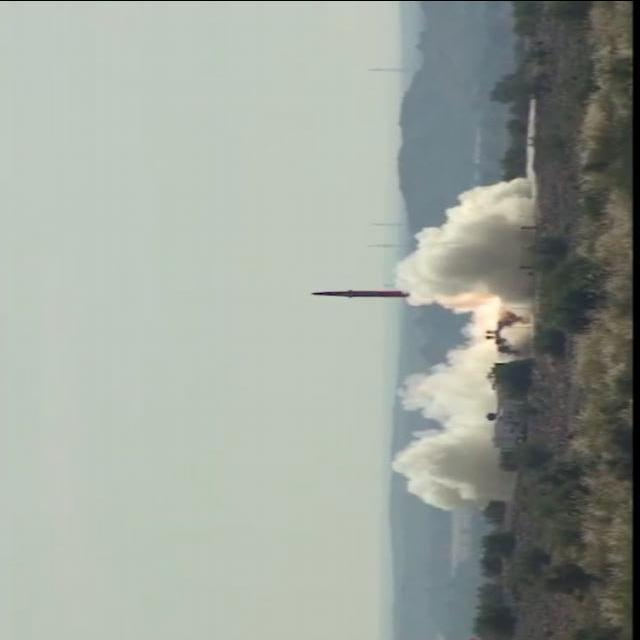Missile: (302, 285, 413, 300)
